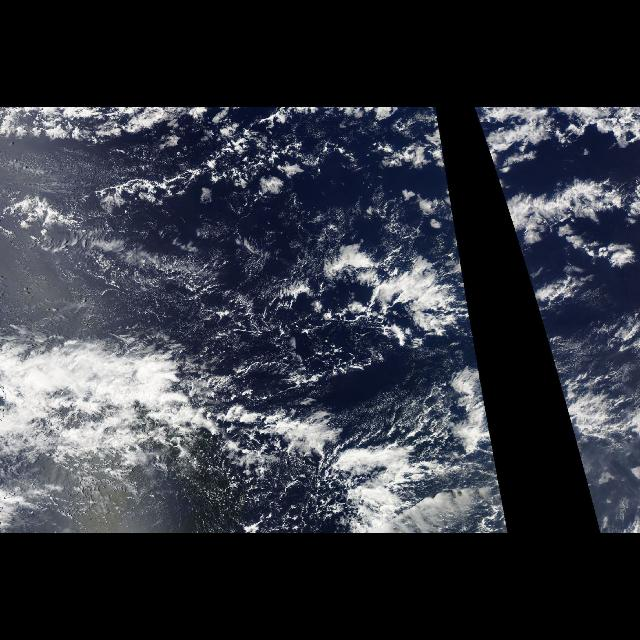Fish: (27, 202, 310, 396)
